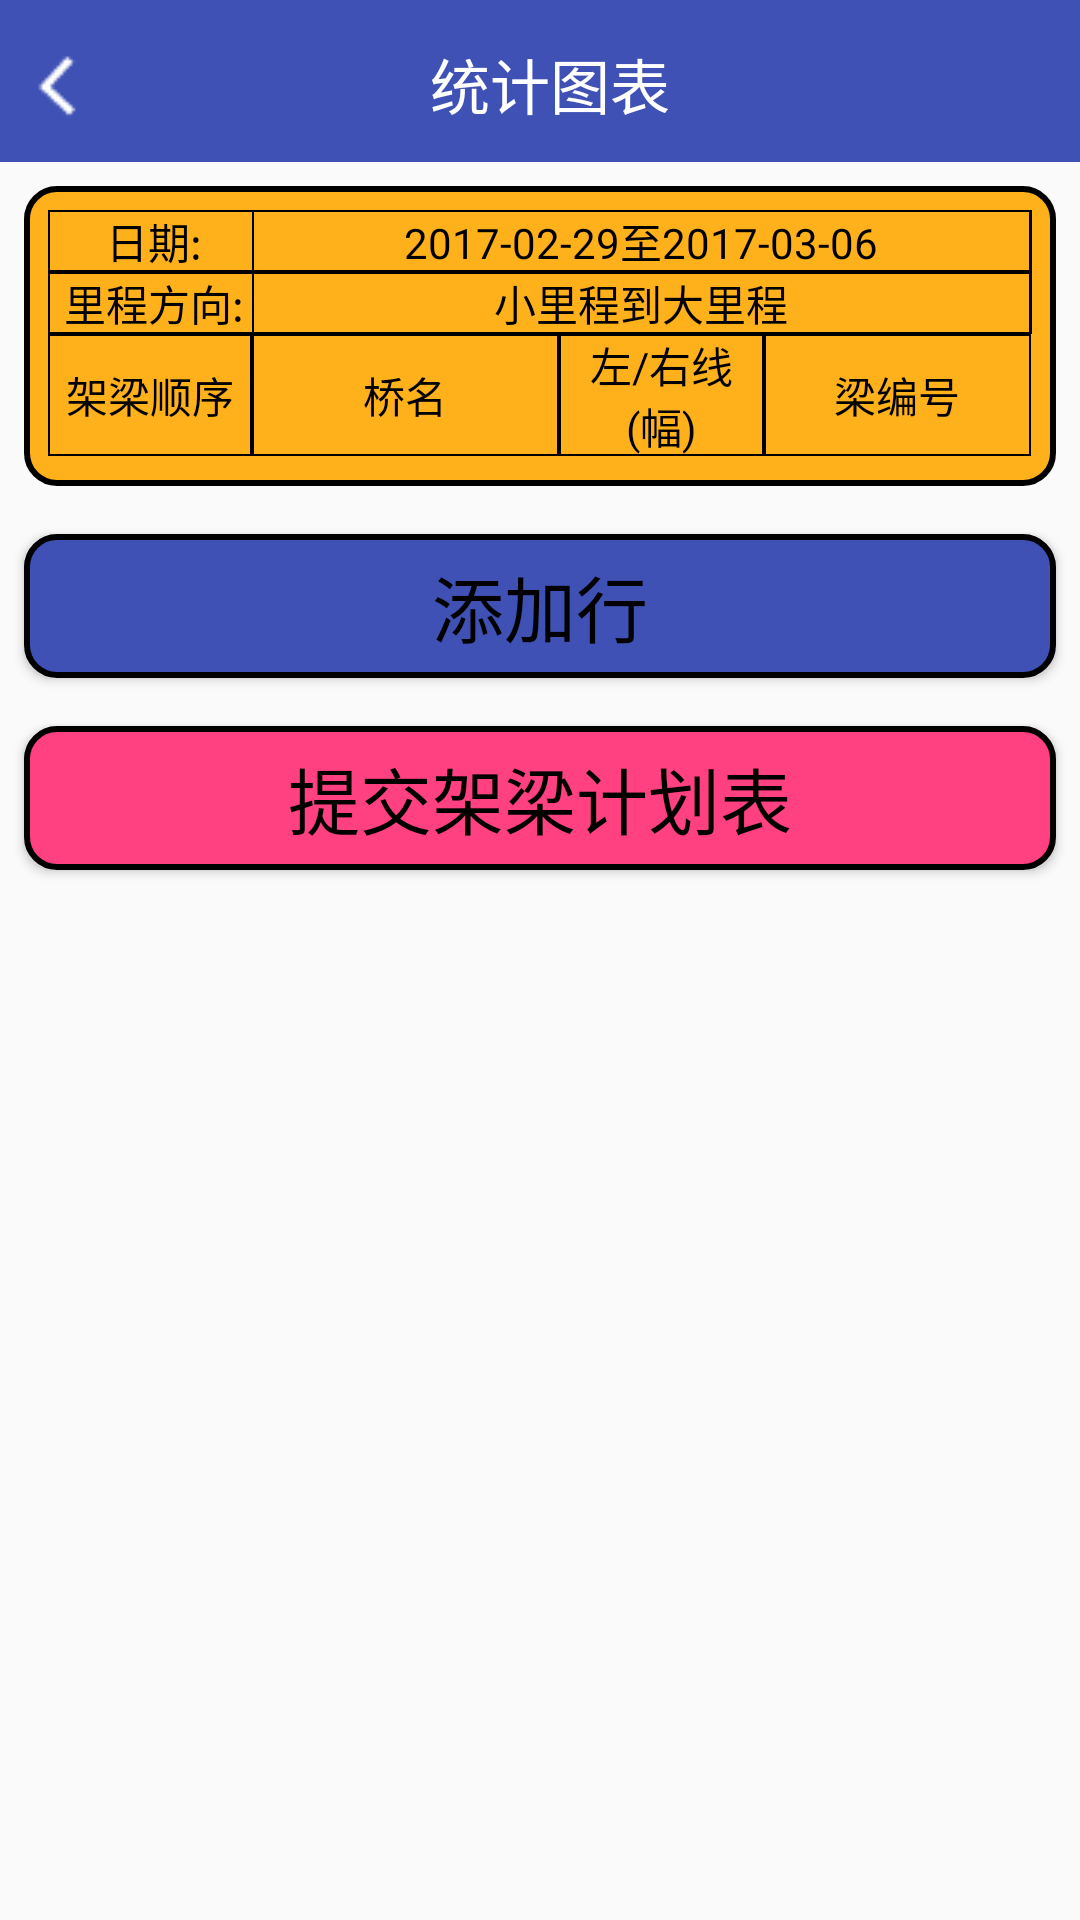

Named icons in this screenshot (1080x1920) and their centers, (x=x, y=y):
back: (x=57, y=85)
